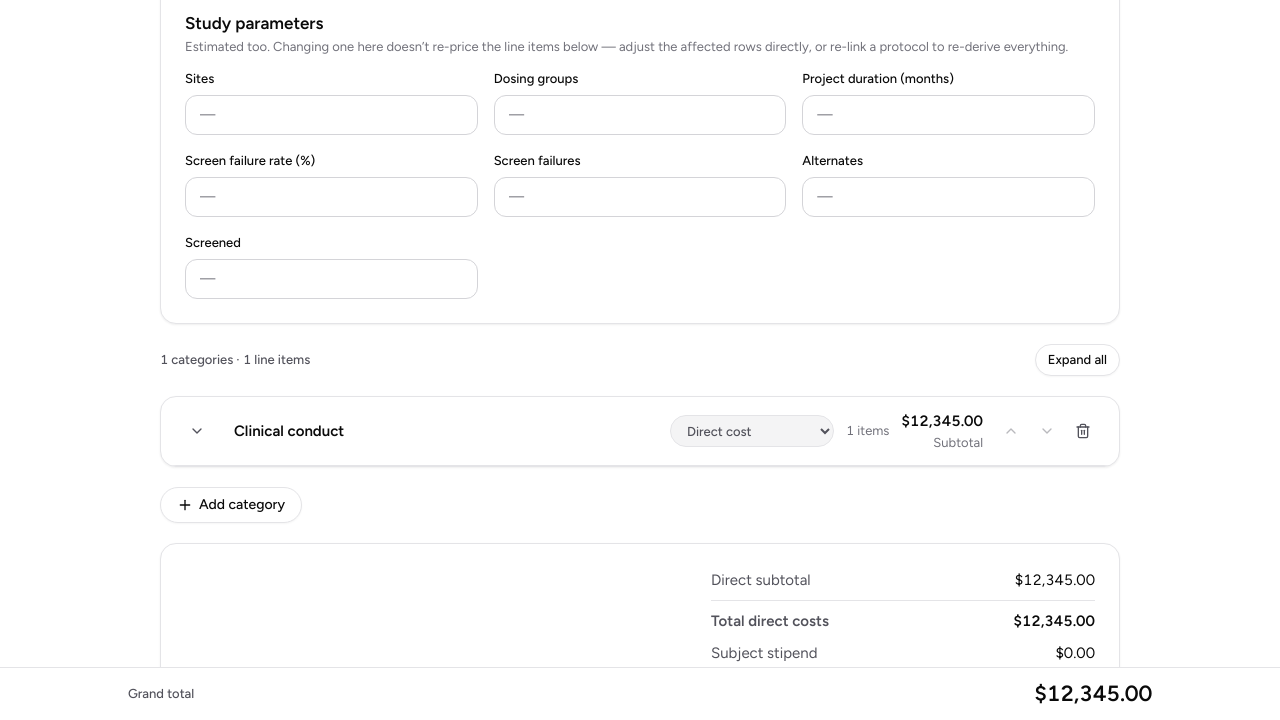
Test case: BudgetEditor › expanding a category reveals labelled, tabular-nums line-item inputs
(page scrolled)
Step 1. Click the button "Expand all" → (1077, 360), box [1035, 344, 1120, 376]
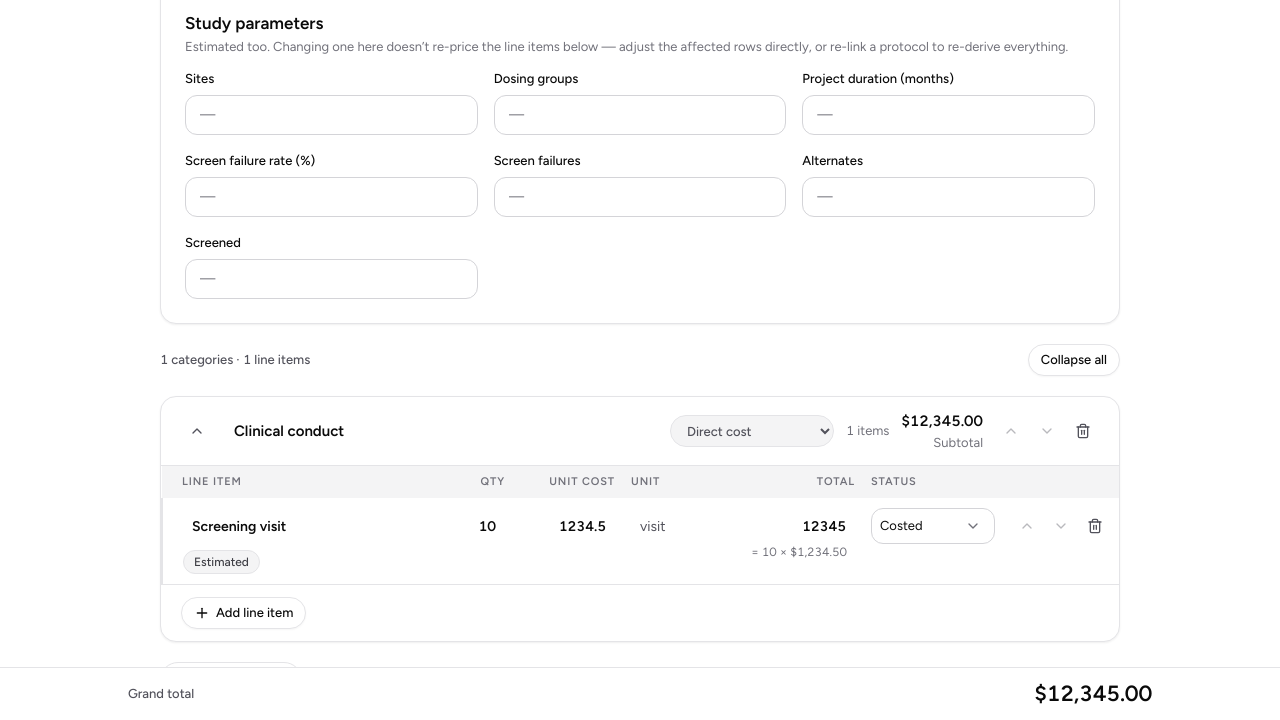
Check: the field named "Quantity for Screening visit" holds "10", box [441, 508, 505, 544]
Check: the field named "Unit cost for Screening visit" holds "1234.5", box [521, 508, 615, 544]
Check: the button "Collapse all" is shown, box [1028, 344, 1120, 376]
